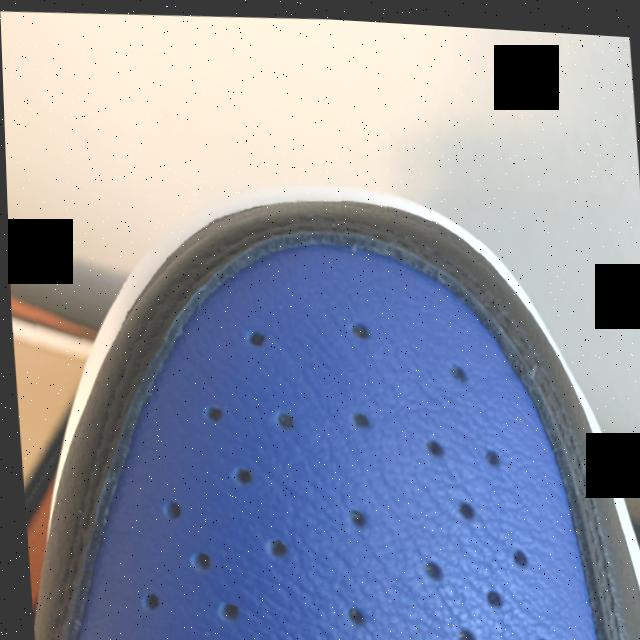shoe: (5, 156, 640, 640)
